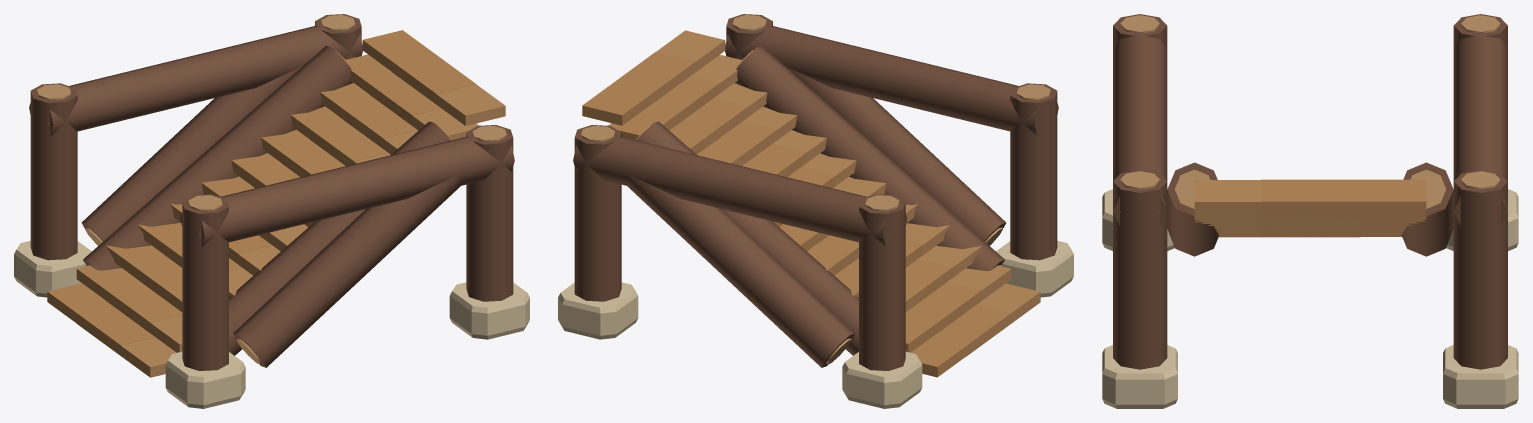
Rendered from stairs_1m.glb.
3 renders of one model, left to right at view 1: azimuth 30°, elevation 25°; view 2: azimuth 150°, elevation 25°; view 3: azimuth 270°, elevation 25°, orthographic. The views are drawn at different scales.
Parts seen in each view (by area): view 1: LadderTopBeam2, LadderTopBeam, LadderBrace2, LadderRail, LadderSupport, LadderSupport2, LadderBrace, LadderSupport4, LadderRung_11, LadderRail2, LadderRung_00, LadderRung_01 (+13 smaller); view 2: LadderTopBeam, LadderTopBeam2, LadderBrace, LadderRail2, LadderSupport2, LadderSupport, LadderBrace2, LadderSupport3, LadderRung_11, LadderRail, LadderRung_00, LadderRung_01 (+13 smaller); view 3: LadderSupport3, LadderSupport4, LadderRung_11, LadderTopBeam, LadderTopBeam2, LadderFoot3, LadderFoot4, LadderRail, LadderRail2, LadderRung_10, LadderSupport, LadderSupport2 (+12 smaller).
Boxes of the visible parts, left/top/right/bottom form: LadderTopBeam2: left=180, top=136, right=514, bottom=246; LadderTopBeam: left=29, top=25, right=362, bottom=135; LadderBrace2: left=233, top=175, right=461, bottom=367; LadderRail: left=83, top=46, right=353, bottom=270; LadderSupport: left=30, top=83, right=77, bottom=260; LadderSupport2: left=182, top=194, right=228, bottom=370; LadderBrace: left=81, top=66, right=302, bottom=245; LadderSupport4: left=466, top=125, right=513, bottom=301; LadderRung_11: left=362, top=30, right=505, bottom=125; LadderRail2: left=229, top=121, right=451, bottom=355; LadderRung_00: left=47, top=283, right=176, bottom=377; LadderRung_01: left=76, top=265, right=182, bottom=352; LadderTopBeam: left=573, top=136, right=907, bottom=246; LadderTopBeam2: left=725, top=25, right=1058, bottom=135; LadderBrace: left=626, top=175, right=854, bottom=367; LadderRail2: left=734, top=46, right=1004, bottom=270; LadderSupport2: left=1010, top=83, right=1057, bottom=260; LadderSupport: left=859, top=194, right=905, bottom=370; LadderBrace2: left=785, top=66, right=1006, bottom=245; LadderSupport3: left=574, top=125, right=621, bottom=301; LadderRung_11: left=582, top=30, right=725, bottom=125; LadderRail: left=636, top=121, right=858, bottom=355; LadderRung_00: left=911, top=283, right=1040, bottom=377; LadderRung_01: left=905, top=265, right=1011, bottom=352; LadderSupport3: left=1453, top=171, right=1507, bottom=369; LadderSupport4: left=1113, top=171, right=1167, bottom=369; LadderRung_11: left=1194, top=179, right=1426, bottom=213; LadderTopBeam: left=1453, top=32, right=1507, bottom=225; LadderTopBeam2: left=1113, top=32, right=1167, bottom=225; LadderFoot3: left=1443, top=345, right=1518, bottom=408; LadderFoot4: left=1102, top=345, right=1177, bottom=408; LadderRail: left=1401, top=162, right=1453, bottom=256; LadderRail2: left=1167, top=162, right=1219, bottom=256; LadderRung_10: left=1194, top=213, right=1426, bottom=218; LadderSupport: left=1453, top=14, right=1507, bottom=47; LadderSupport2: left=1113, top=14, right=1167, bottom=47.
Bounding box in the file's own units: 1.95 × 1.01 × 1.76.
